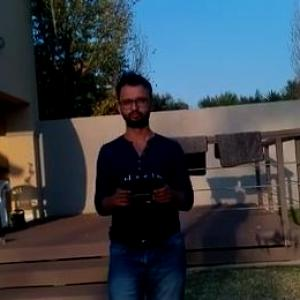follow: (88, 63, 200, 299)
